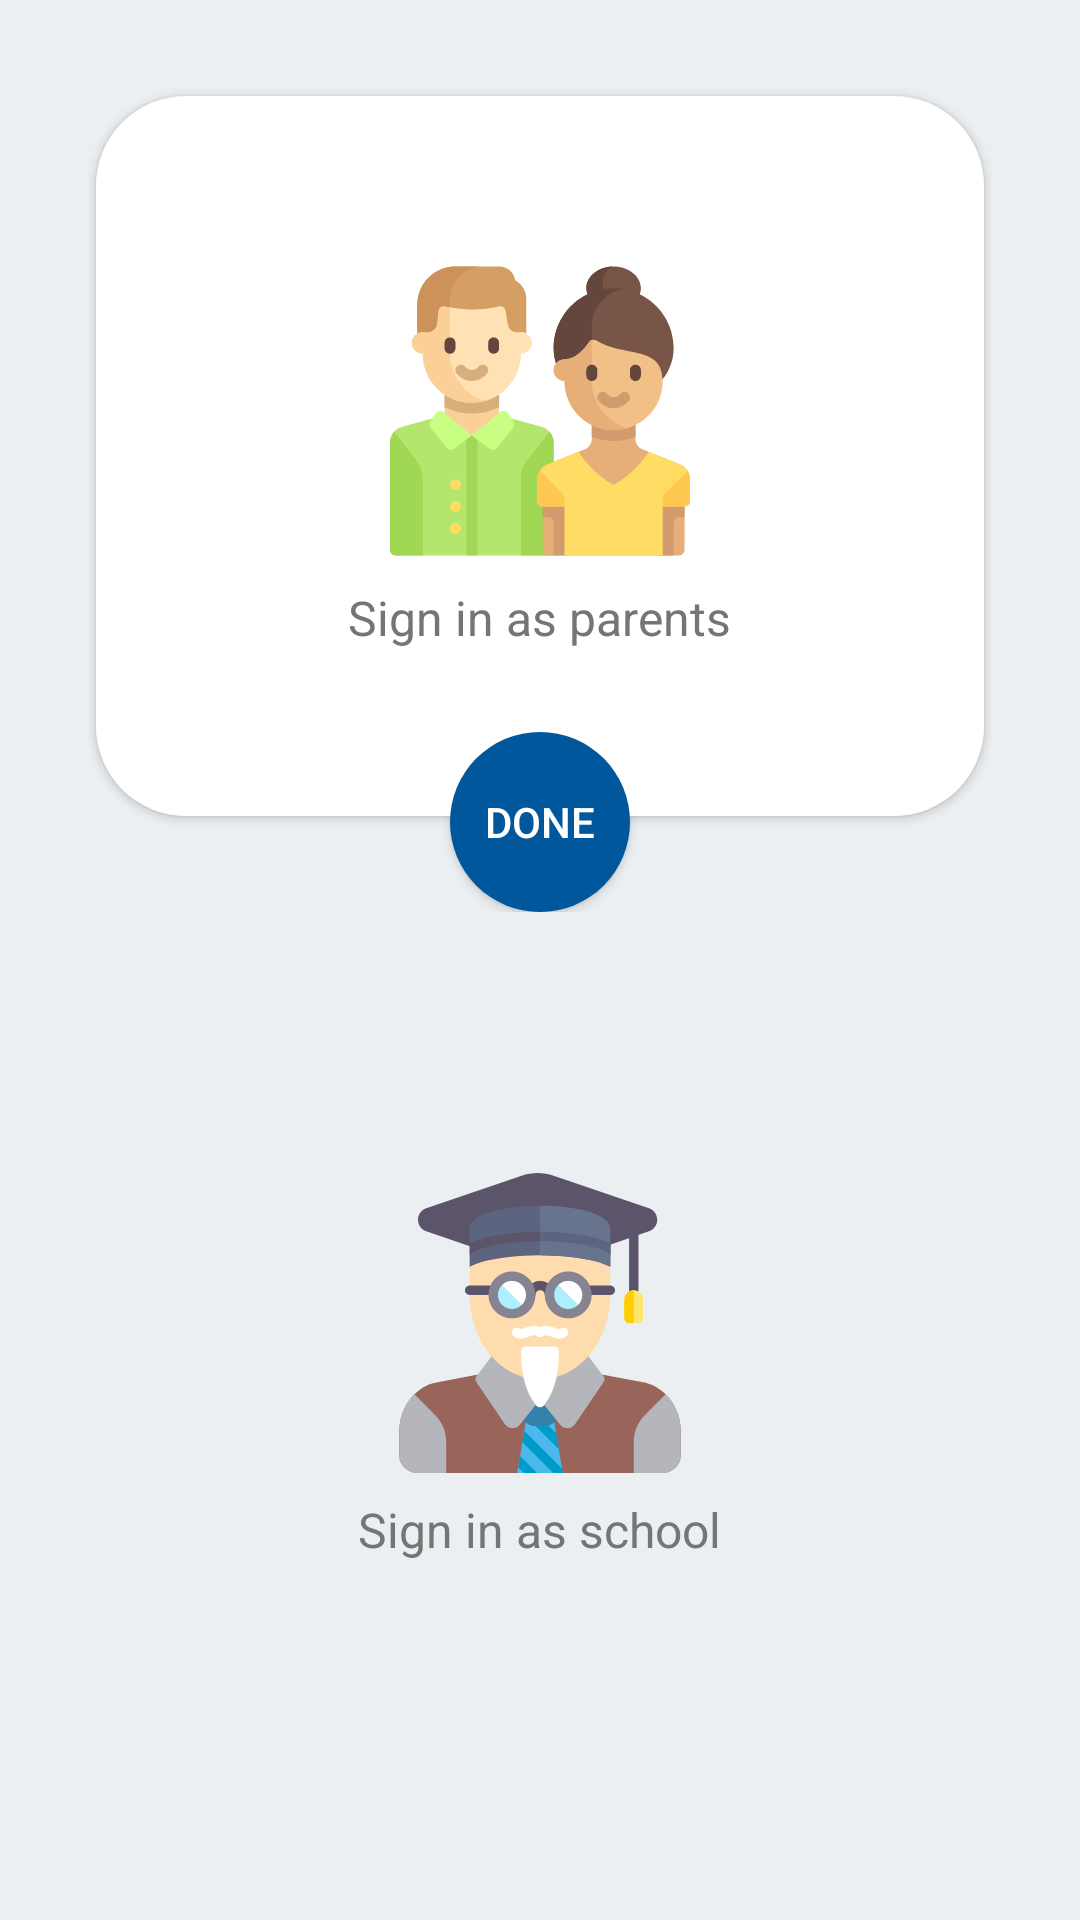

Icons on this 1080 × 1920 Android screen, each with its box as detection(x1, y1, x2, y2):
professor: detection(399, 1173, 681, 1473)
